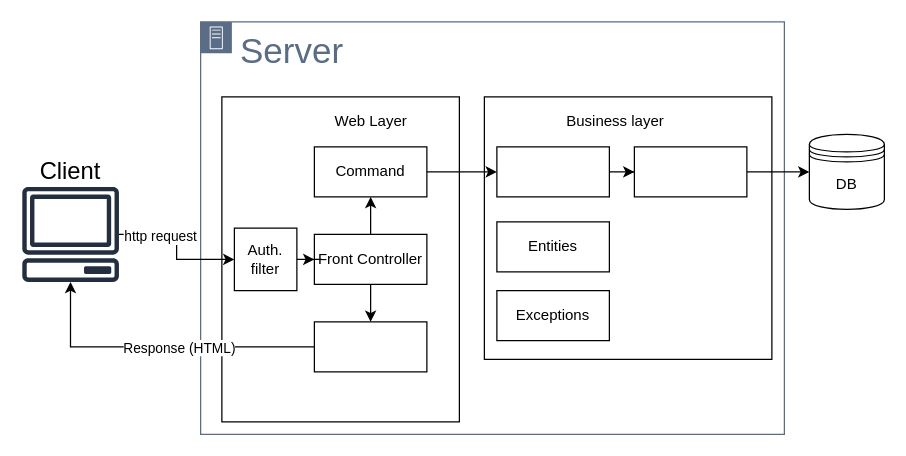
Image size: 906x456. Some labels were removed from this diagram. Each missing label, with the centre of its shape:
"Persistence" goes at pixel 690 171.
"Services" goes at pixel 552 171.
"View" goes at pixel 370 346.
